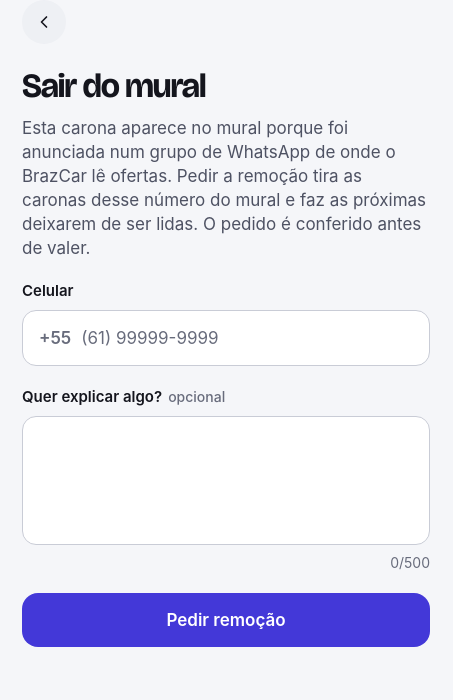
Test: RemovalRequestScreen, as a person uses it (D-172) › an unfinished phone is marked, and nothing is sent
The image size is (453, 700).
Click the field labelled "Celular".
click(247, 338)  # box [81,312,413,364]
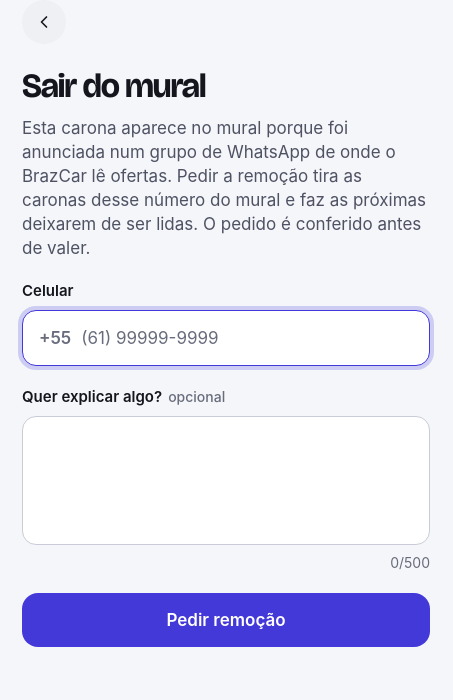
Type keys "6199"
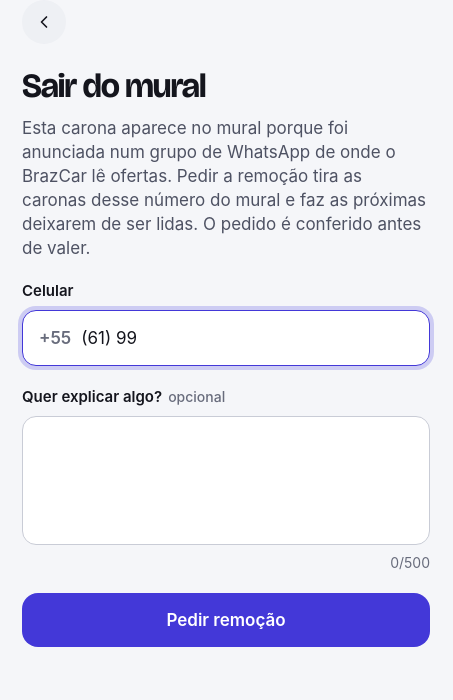
Click the button "Pedir remoção".
click(226, 620)  # box [22,593,430,647]
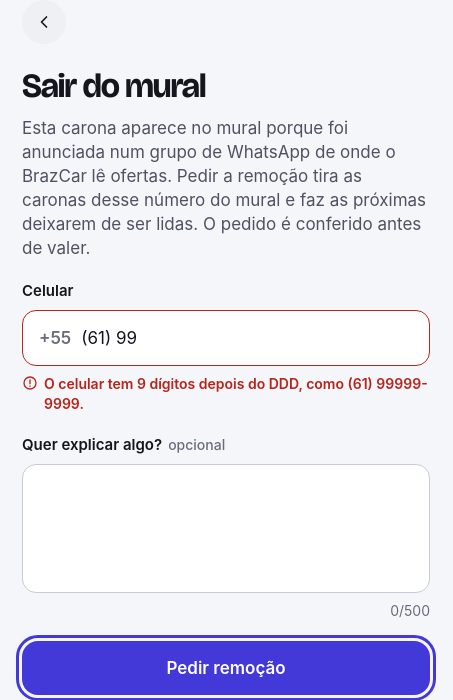
expect the text "O celular tem 9 dígitos depois do DDD, como (61) 99999-9999." is shown: met, box [22,374,430,414]
